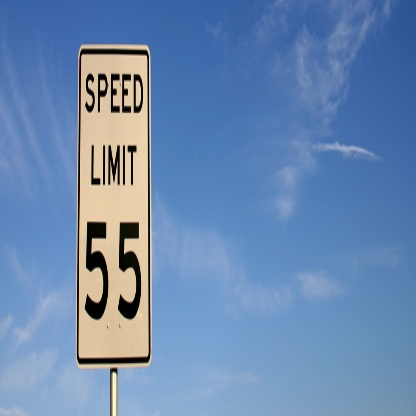limit1: (75, 41, 154, 368)
